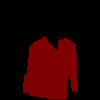maglia: (22, 36, 78, 99)
